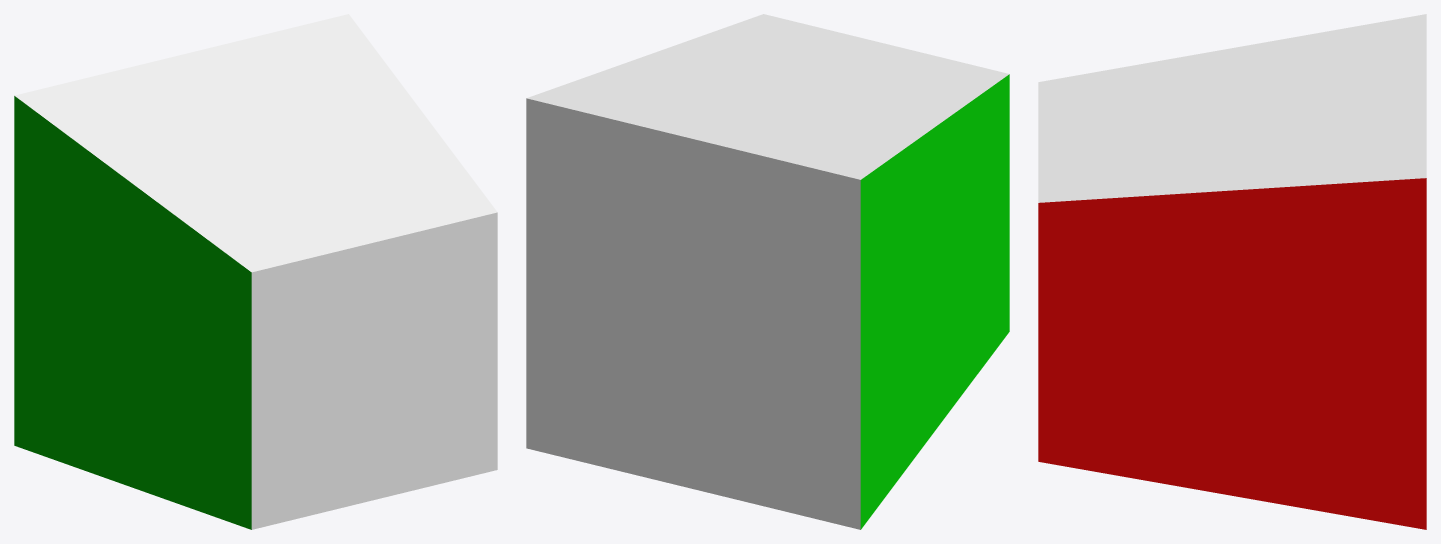
Rendered from cornell_box_persp.obj.
3 renders of one model, left to right at view 1: azimuth 30°, elevation 25°; view 2: azimuth 150°, elevation 25°; view 3: azimuth 270°, elevation 25°, orthographic.
Visible parts, largest first — view 1: green, top, back; view 2: front, green, top; view 3: red, top.
Boxes of the visible parts, <box> form: green: <box>14,96,251,529</box>; top: <box>14,14,497,272</box>; back: <box>251,212,497,529</box>; front: <box>526,98,860,529</box>; green: <box>860,74,1009,529</box>; top: <box>527,14,1009,179</box>; red: <box>1038,178,1426,529</box>; top: <box>1038,14,1426,202</box>.
Size of the model in its own units: 1 by 1 by 1.
